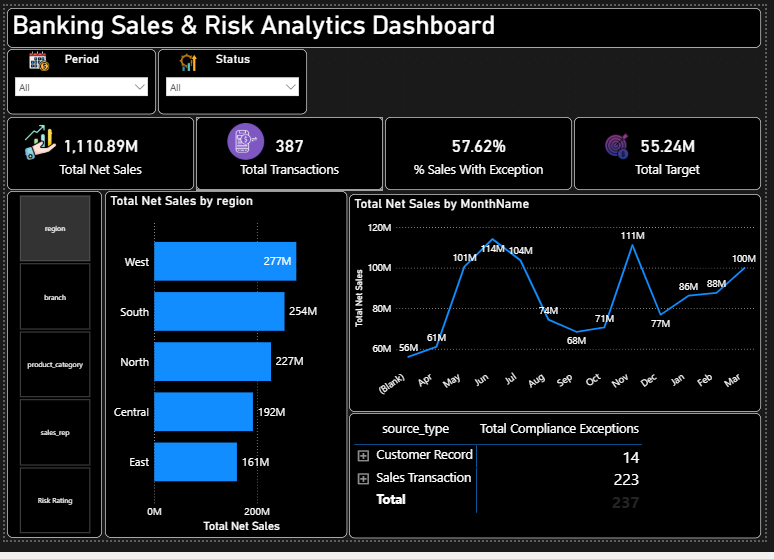

Layout of this report page (visuals, bound fields, positions):
{"tool":"powerbi","page":{"name":"Page 1","canvas":[1280,900],"ordinal":0},"visuals":[{"type":"textbox","title":"Banking Sales & Risk Analytics Dashboard","box":[4,4,1270,67],"z":0},{"type":"card","fields":{"Values":["_Measures.Total Target"]},"box":[958,187.6,315,123.2],"z":0,"group":"g3"},{"type":"card","fields":{"Values":["_Measures.% Sales With Exception"]},"box":[640,187.6,315,123.2],"z":1000},{"type":"card","fields":{"Values":["_Measures.Total Net Sales"]},"box":[4,186.2,315,123.2],"z":2000,"group":"g1"},{"type":"slicer","fields":{"Values":["Breakdown By.Breakdown By"]},"box":[4,312,160,584],"z":2000},{"type":"clusteredBarChart","fields":{"Category":["gold_fact_sales.region"],"Y":["_Measures.Total Net Sales"]},"box":[168,312,408,584],"z":3000},{"type":"slicer","title":"Status","fields":{"Values":["gold_fact_sales.status"]},"box":[258,72,251,110],"z":4000,"group":"g5"},{"type":"card","fields":{"Values":["_Measures.Total Transactions"]},"box":[322,187.6,315,123.2],"z":4000,"group":"g2"},{"type":"lineChart","fields":{"Category":["DimDate.MonthName"],"Y":["_Measures.Total Net Sales"]},"box":[579,316,694,367],"z":4000},{"type":"pivotTable","fields":{"Rows":["gold_compliance_exceptions.source_type","gold_compliance_exceptions.exception_reason"],"Values":["_Measures.Total Compliance Exceptions"]},"box":[579,685,694,211],"z":5000},{"type":"group","id":"g1","title":"Group 1","box":[4,186.2,315,123.2],"z":6000},{"type":"slicer","title":"Period","fields":{"Values":["DimDate.FiscalYear","DimDate.FiscalQuarter","DimDate.MonthName"]},"box":[4,72,251,110],"z":7000,"group":"g4"},{"type":"image","box":[271.7,74.3,72.5,38],"z":7000,"group":"g5"},{"type":"group","id":"g2","title":"Group 2","box":[322,187.6,315,123.2],"z":7000},{"type":"group","id":"g3","title":"Group 3","box":[958,187.6,315,123.2],"z":8000},{"type":"group","id":"g4","title":"Group 4","box":[4,72,251,110],"z":9000},{"type":"group","id":"g5","title":"Group 5","box":[258,72,251,110],"z":10000},{"type":"image","box":[23,74,72.5,38],"z":10001,"group":"g4"},{"type":"image","box":[370,197.4,70,61.6],"z":10001,"group":"g2"},{"type":"image","box":[23.5,198,72.5,61.6],"z":10001,"group":"g1"},{"type":"image","box":[987,211.9,88,50],"z":10001,"group":"g3"}]}

Visuals, with their boxes in screenshot pixels (x1, y1, x2, y2), scaled from the page's 1280x900 canvas onto the 774x559 screenshot:
"Banking Sales & Risk Analytics Dashboard" textbox: select_region(2, 2, 770, 44)
card - _Measures.Total Target: select_region(579, 117, 770, 193)
card - _Measures.% Sales With Exception: select_region(387, 117, 577, 193)
card - _Measures.Total Net Sales: select_region(2, 116, 193, 192)
slicer - Breakdown By.Breakdown By: select_region(2, 194, 99, 557)
clusteredBarChart - gold_fact_sales.region x _Measures.Total Net Sales: select_region(102, 194, 348, 557)
"Status" slicer: select_region(156, 45, 308, 113)
card - _Measures.Total Transactions: select_region(195, 117, 385, 193)
lineChart - DimDate.MonthName x _Measures.Total Net Sales: select_region(350, 196, 770, 424)
pivotTable - gold_compliance_exceptions.source_type x gold_compliance_exceptions.exception_reason: select_region(350, 425, 770, 557)
"Group 1" group: select_region(2, 116, 193, 192)
"Period" slicer: select_region(2, 45, 154, 113)
image: select_region(164, 46, 208, 70)
"Group 2" group: select_region(195, 117, 385, 193)
"Group 3" group: select_region(579, 117, 770, 193)
"Group 4" group: select_region(2, 45, 154, 113)
"Group 5" group: select_region(156, 45, 308, 113)
image: select_region(14, 46, 58, 70)
image: select_region(224, 123, 266, 161)
image: select_region(14, 123, 58, 161)
image: select_region(597, 132, 650, 163)
